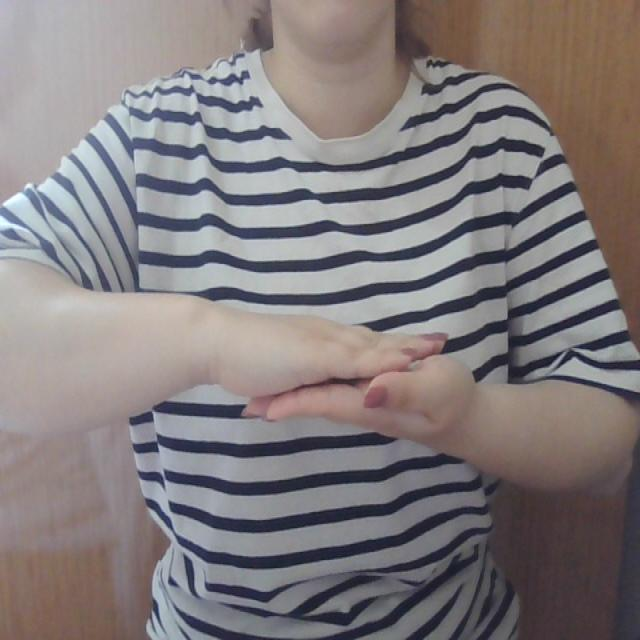Arkadas: (191, 279, 539, 499)
